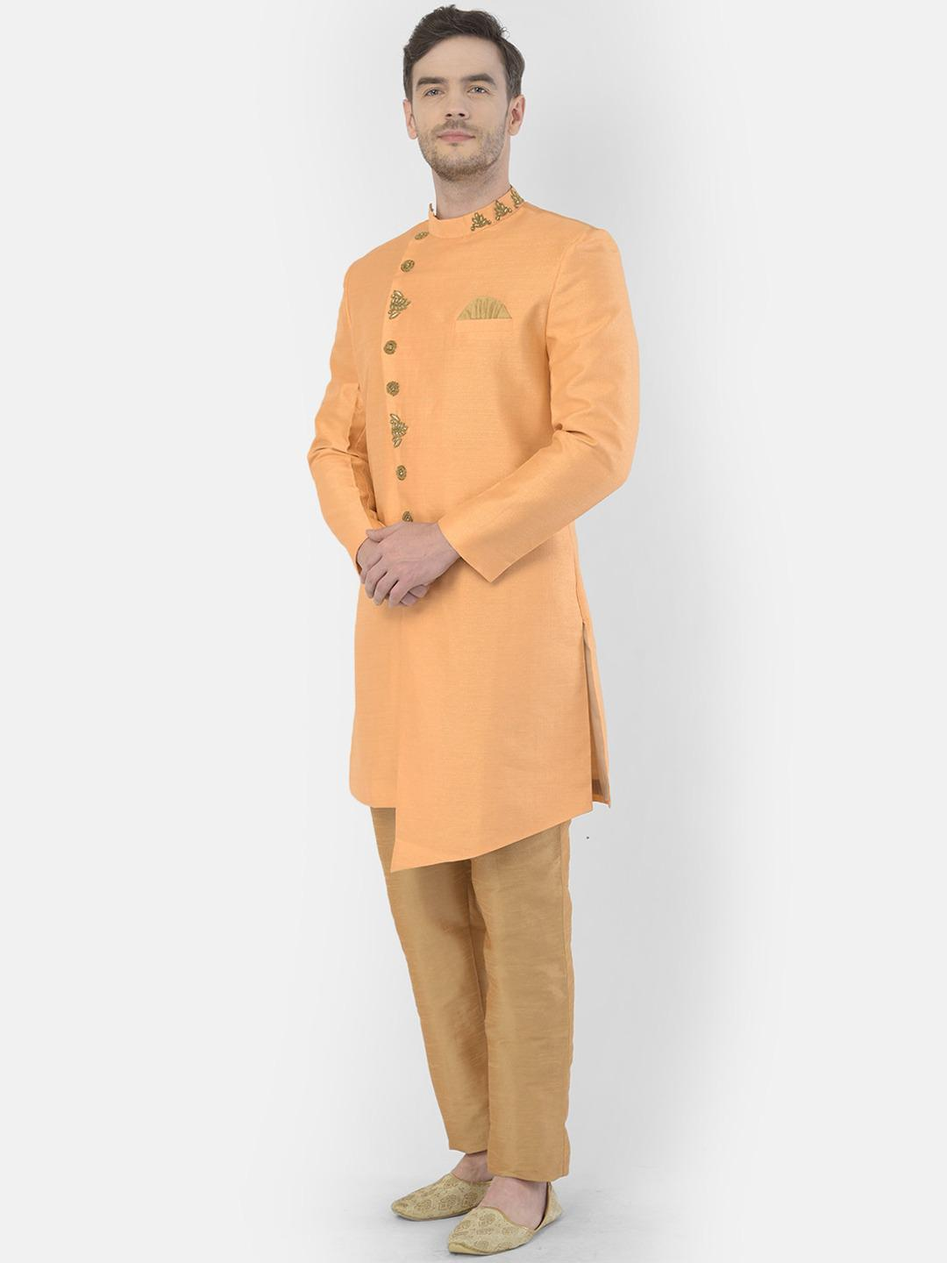Plain Sherwani: (302, 181, 640, 884)
